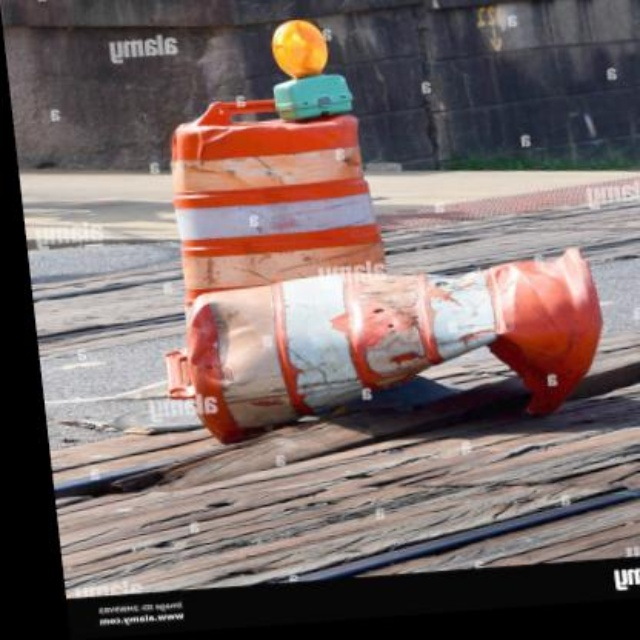obstacle: (150, 249, 622, 461), (137, 80, 388, 290)
